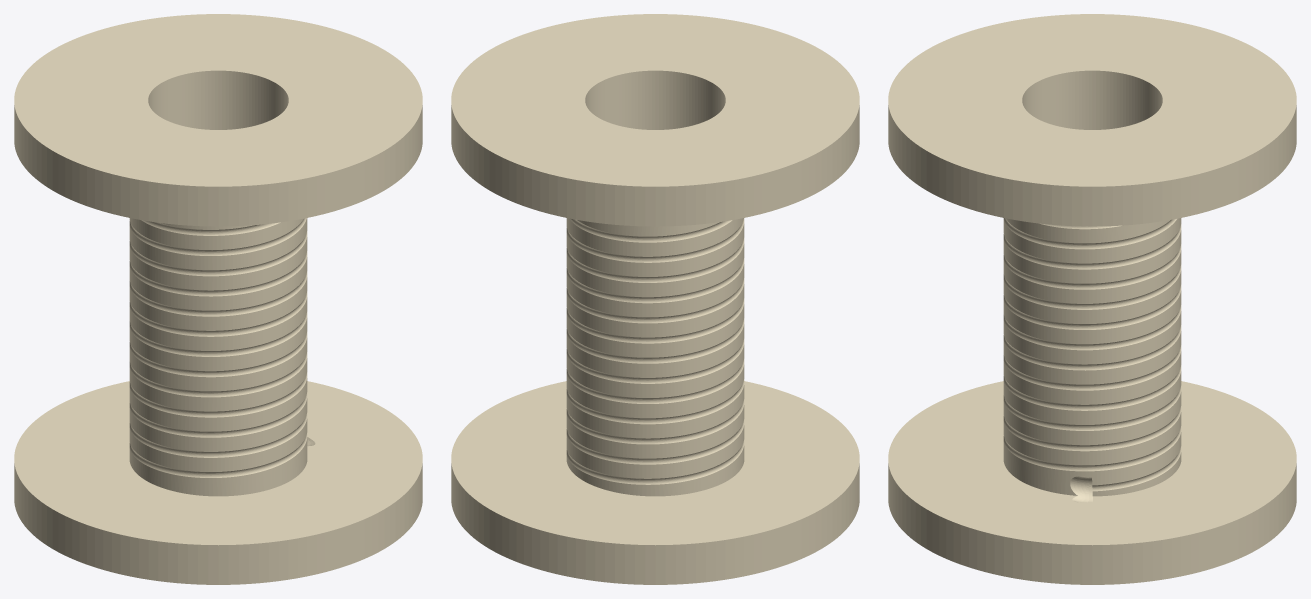
The model's file is evr-bobbin-illustrative.glb.
The picture shows the model from 3 angles, left to right: view 1: azimuth 30°, elevation 25°; view 2: azimuth 150°, elevation 25°; view 3: azimuth 270°, elevation 25°; orthographic projection.
Visible parts, largest first — view 1: world; view 2: world; view 3: world.
Boxes of the visible parts, x1,y1,x2,y2 form: world: [14, 14, 422, 584]; world: [451, 14, 859, 584]; world: [888, 14, 1296, 584].
Bounding box in the file's own units: 0.0186 × 0.02 × 0.0186.
